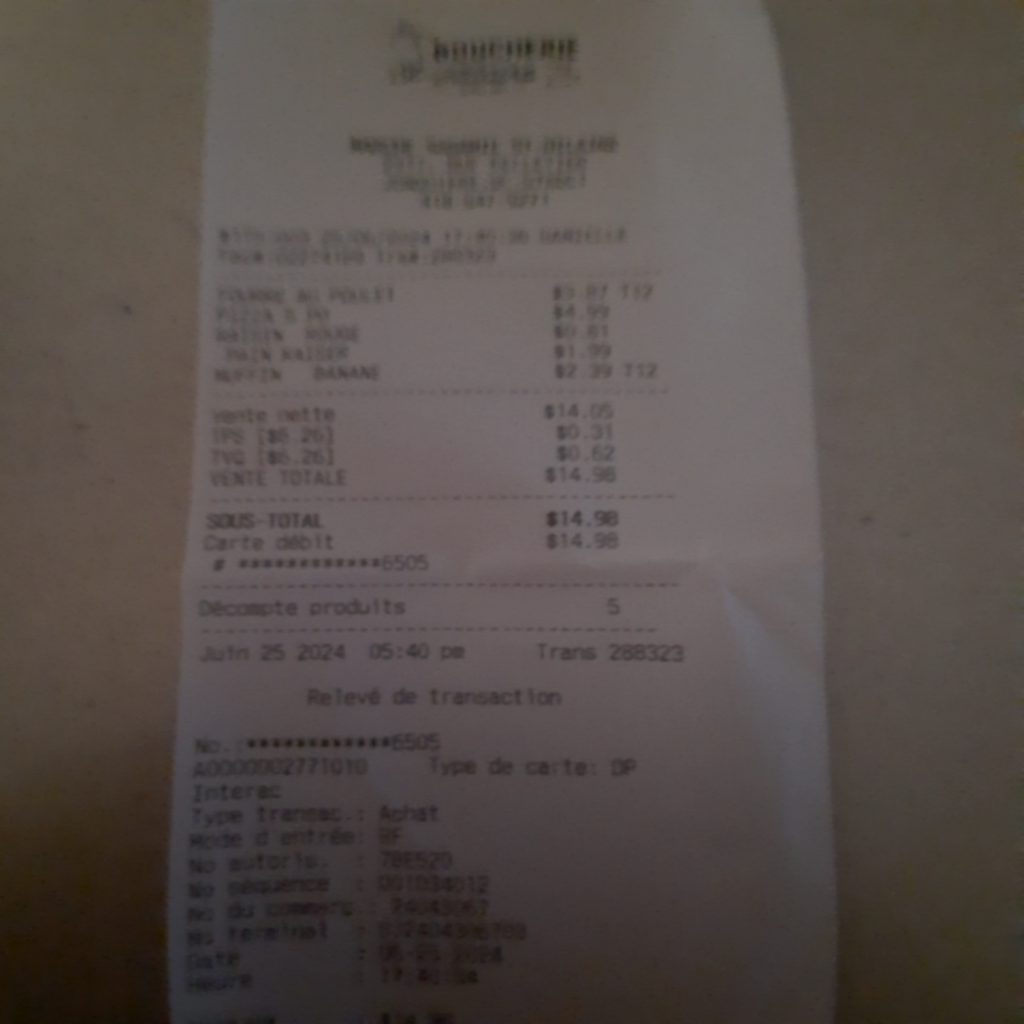recipt: (168, 6, 827, 1007)
